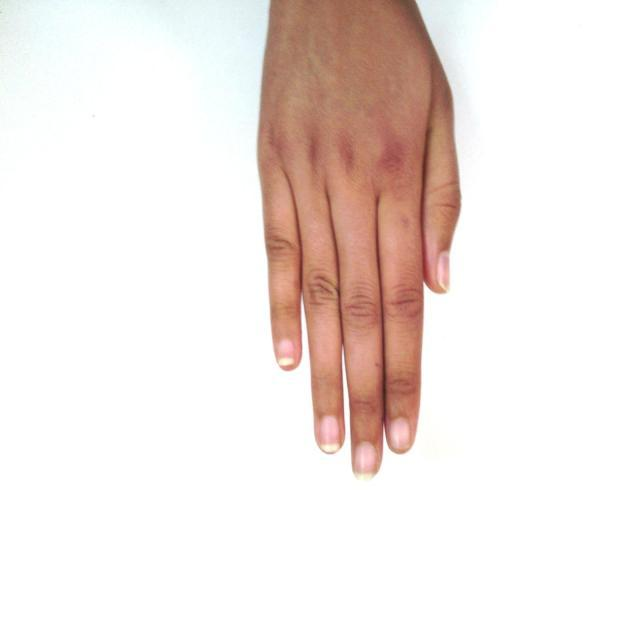Fingernail: (354, 443, 377, 479), (319, 416, 341, 453), (390, 416, 411, 449), (437, 252, 450, 291), (278, 341, 294, 364)
